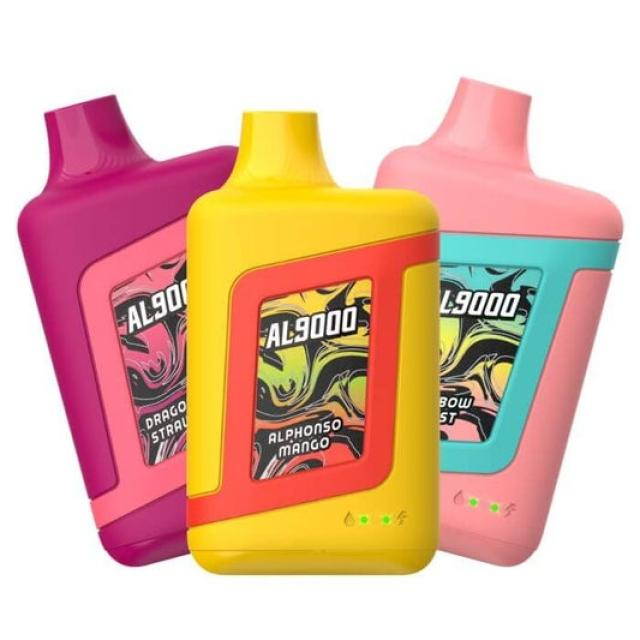Vapes: (182, 108, 440, 576)
